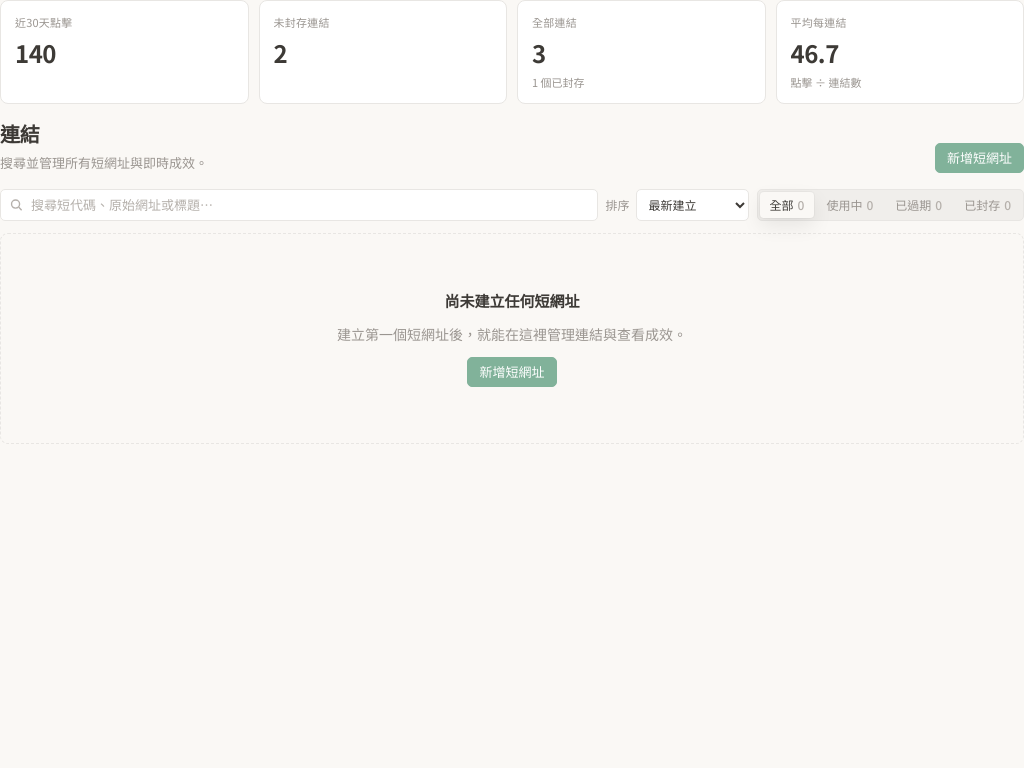
Test case: DashboardView › creates from the modal, closes it, refreshes KPI, and shows the new row
The image size is (1024, 768).
Click the button with test id "open-create".
click(980, 158)  # box [935,142,1023,172]
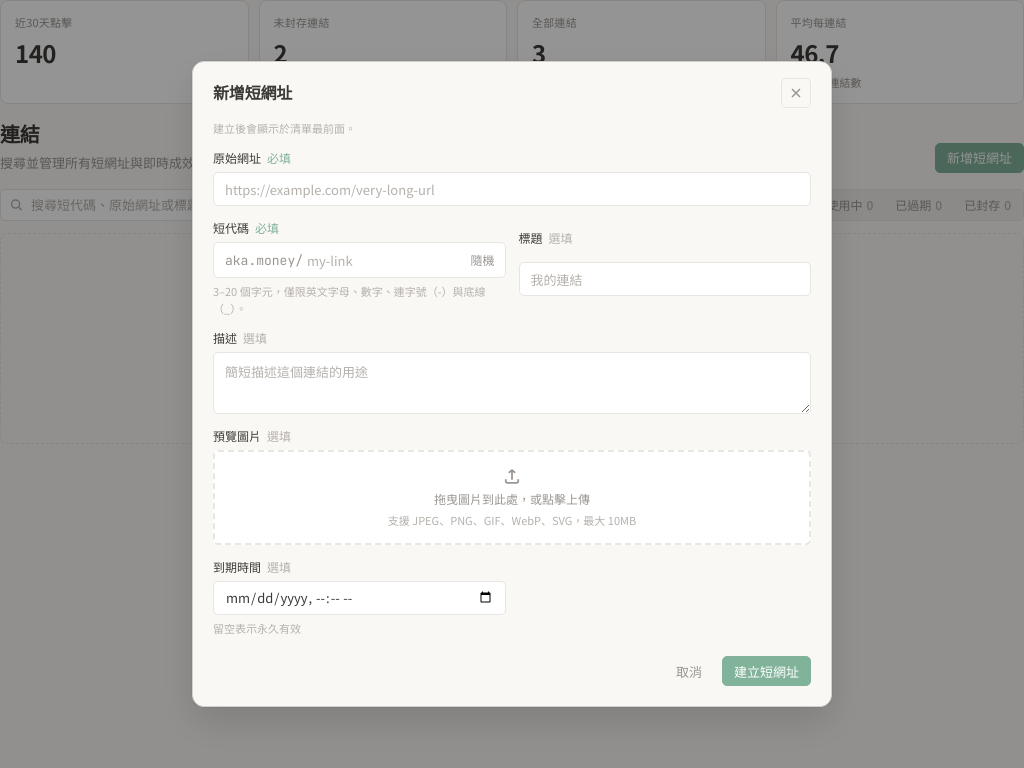
Type "https://example.com/target" into the field labelled "原始網址 必填".
click(512, 189); type("https://example.com/target")  # box [213,172,811,206]
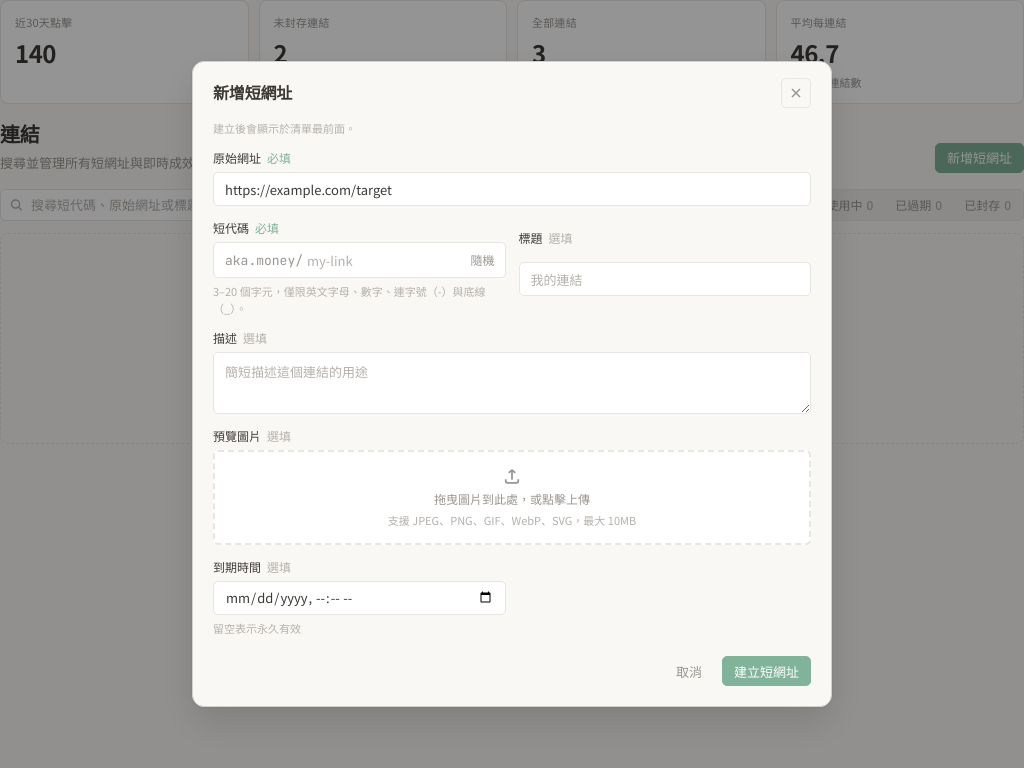
Type "new-link" into the field labelled "短代碼 必填".
click(383, 260); type("new-link")  # box [305,243,460,277]
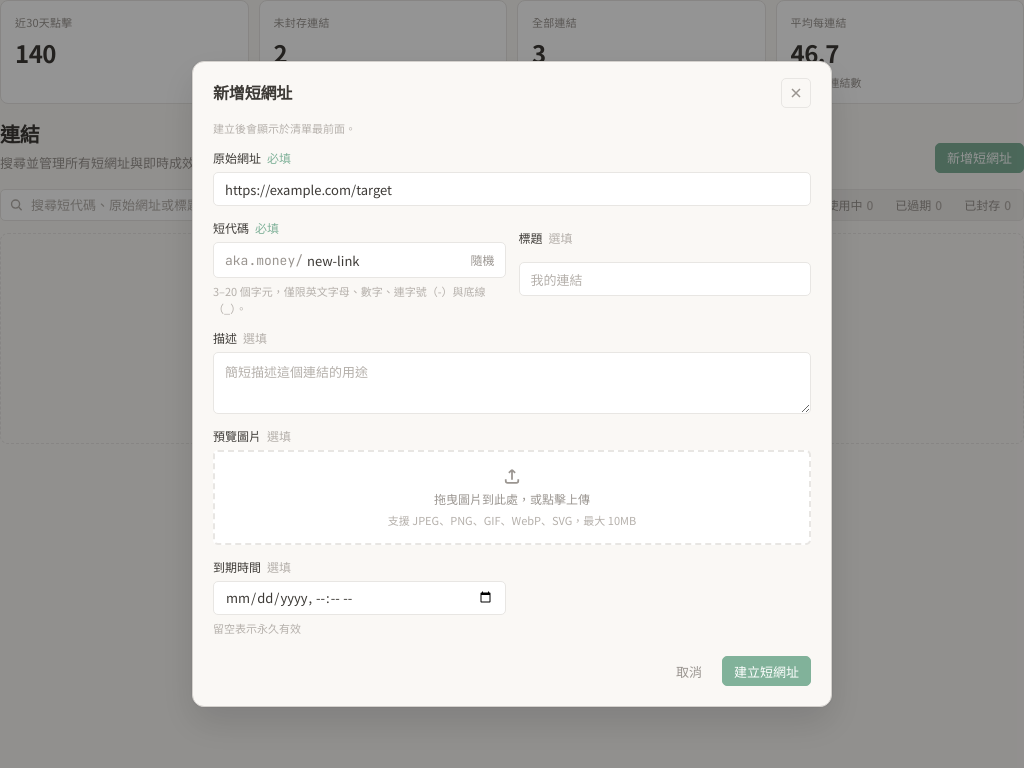
Click the button with test id "create-submit".
click(766, 671)  # box [722,656,811,686]
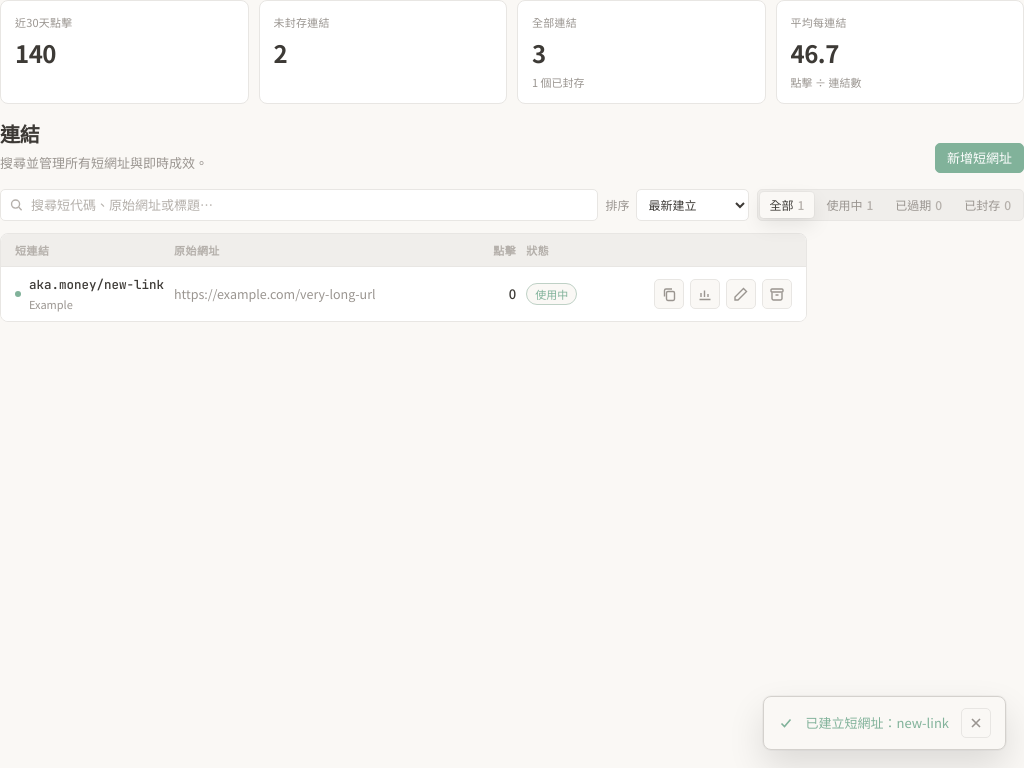
Result: the text "已建立短網址" is shown at [806,713,949,732]
Result: the row shows "new-link" at [29,276,164,295]
